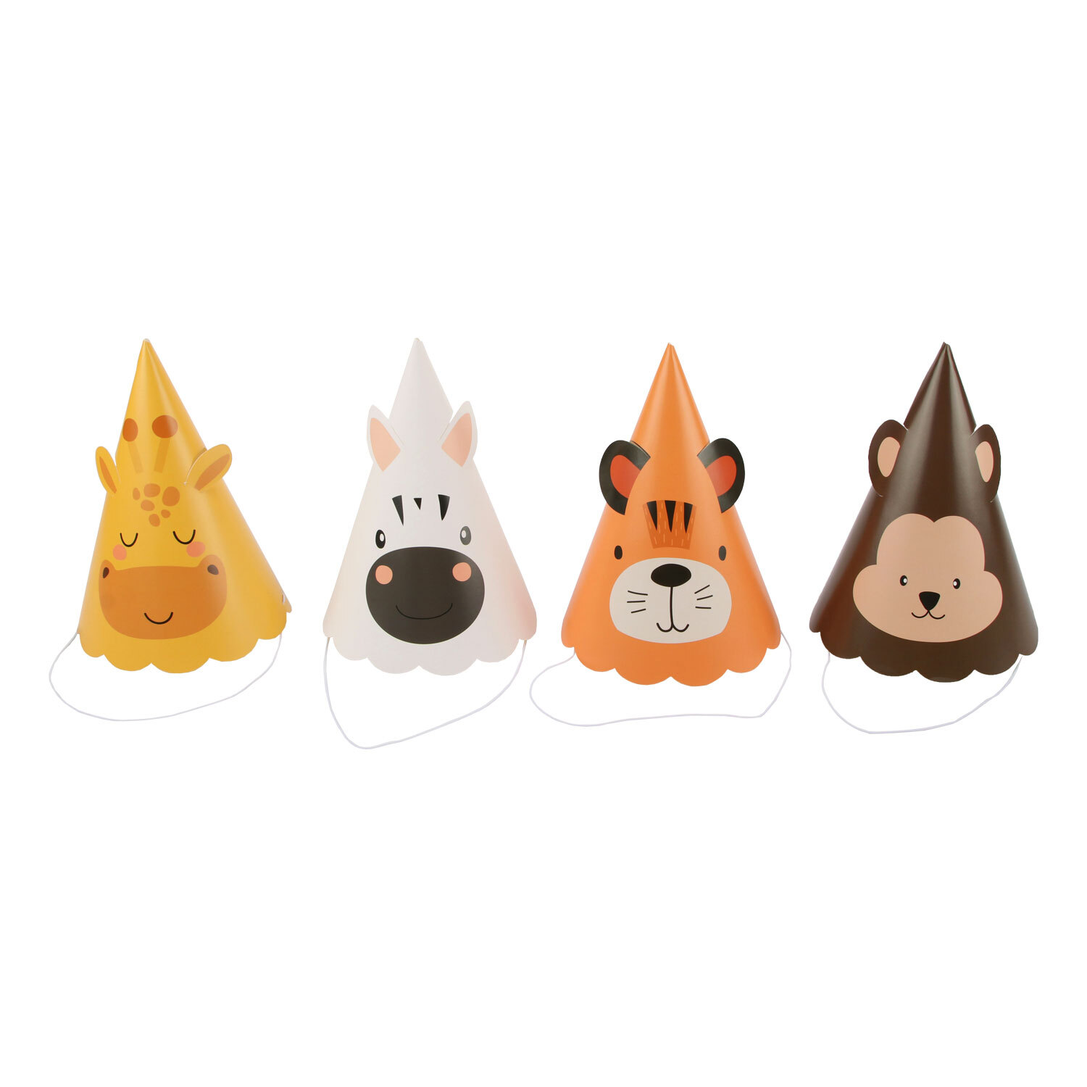cone: (809, 342, 1038, 682), (561, 343, 781, 686), (322, 338, 537, 675), (76, 338, 292, 673)
